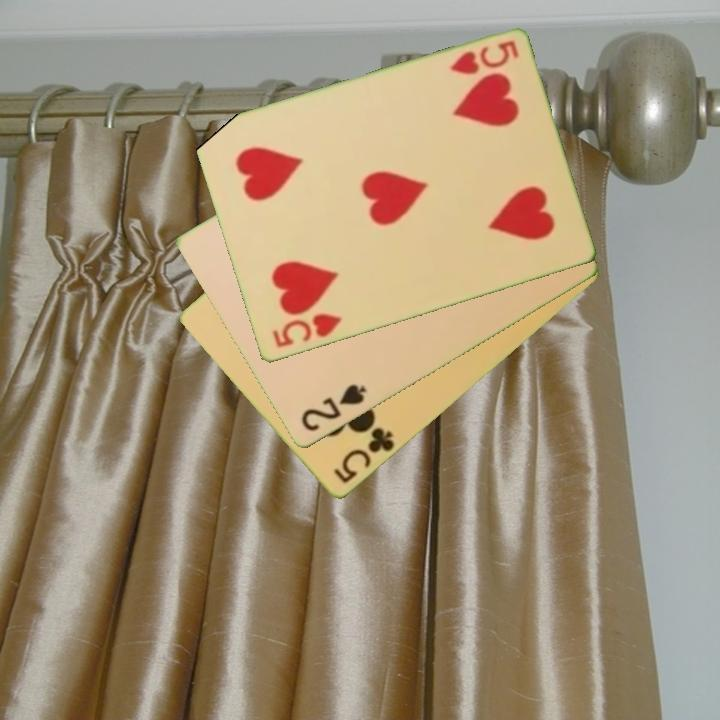2s: (297, 381, 370, 435)
5c: (329, 424, 398, 487)
5h: (446, 37, 521, 79), (268, 310, 344, 351)
